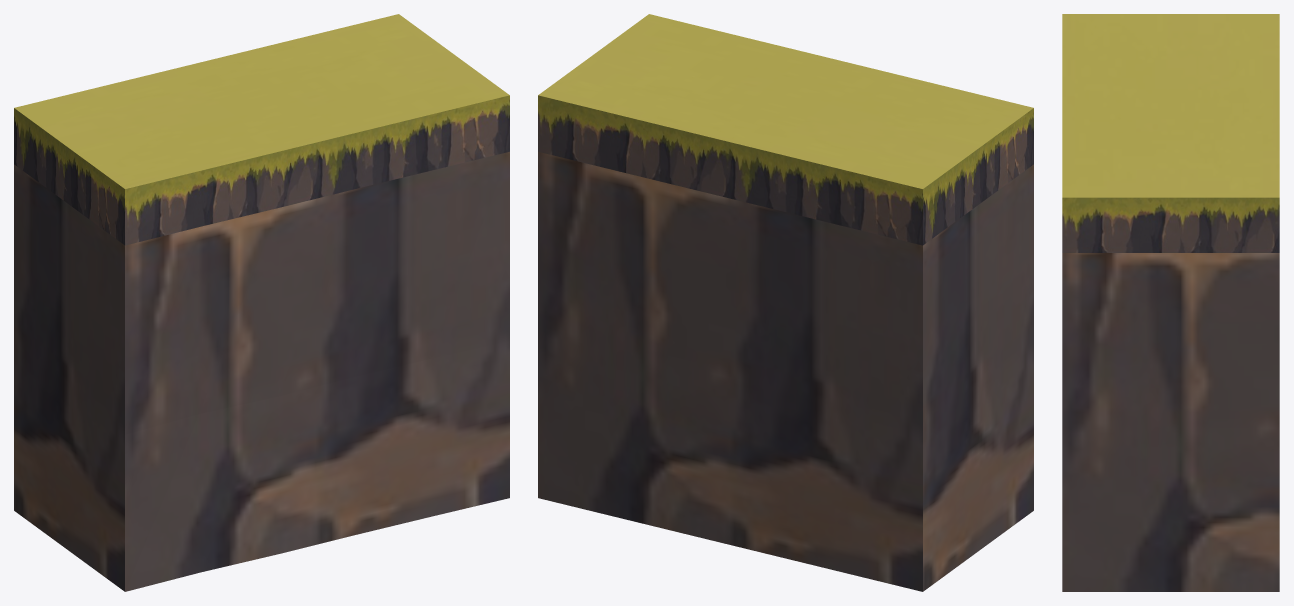
File: SM_RC_Terrain_Cliff_8x8.gltf
3 views of the same model, side by side, from view 1: azimuth 30°, elevation 25°; view 2: azimuth 150°, elevation 25°; view 3: azimuth 270°, elevation 25° (orthographic). The views are drawn at different scales.
Parts seen in each view (by area): view 1: SM_RC_Terrain_Cliff_8x8; view 2: SM_RC_Terrain_Cliff_8x8; view 3: SM_RC_Terrain_Cliff_8x8.
Boxes of the visible parts, x1,y1,x2,y2 form: SM_RC_Terrain_Cliff_8x8: (14,14,509,591); SM_RC_Terrain_Cliff_8x8: (538,14,1033,591); SM_RC_Terrain_Cliff_8x8: (1062,14,1279,591).
Size of the model in its own units: 8 by 8 by 4.
1 material, 1 textured.
